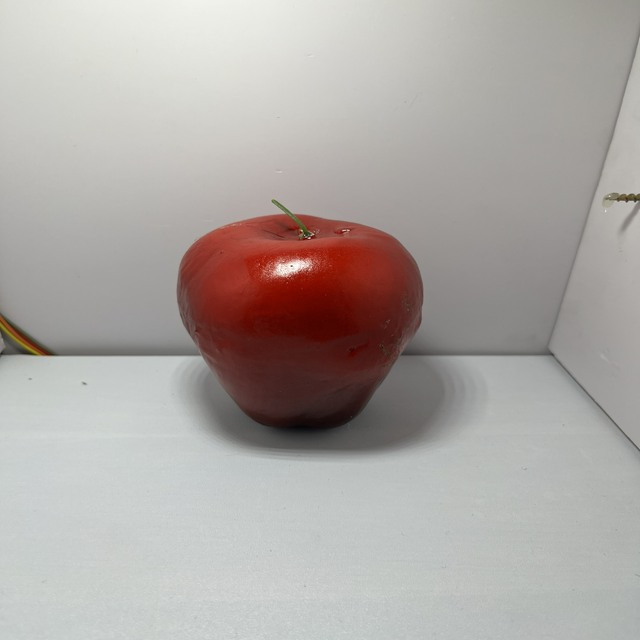Tao: (174, 203, 430, 448)
